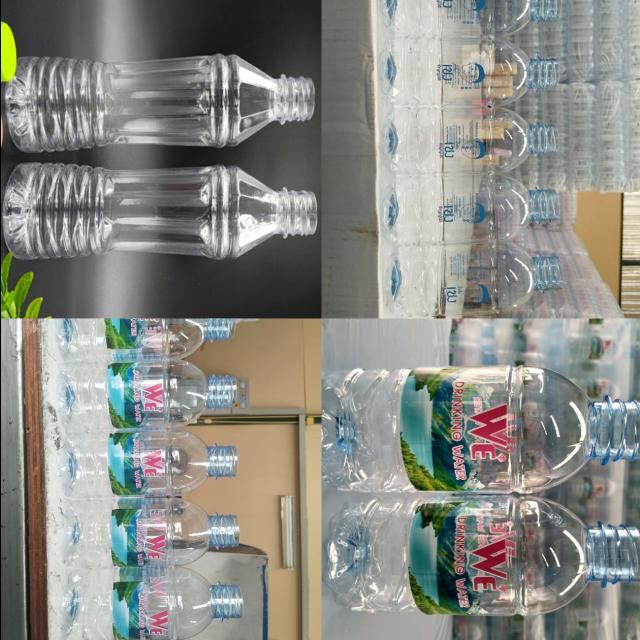plastik: (321, 365, 640, 494), (322, 495, 640, 616), (2, 162, 315, 259), (5, 54, 313, 152), (61, 567, 242, 640), (386, 242, 562, 317), (56, 360, 235, 431), (381, 175, 558, 246), (59, 429, 237, 498), (61, 498, 238, 567), (381, 39, 558, 105), (381, 108, 558, 172), (56, 318, 234, 362), (380, 0, 560, 38)
